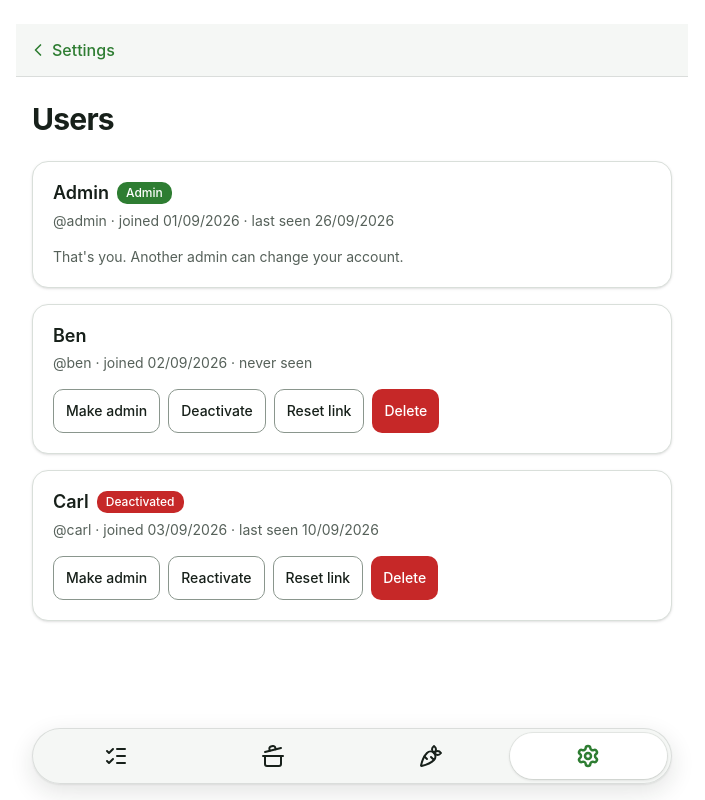
Test: Admin pages › /me/admin/users is a detail screen: the strip back to Settings, then the title, no chips (D-45, D-46)
Expected: the navigation bar "Administration" is not shown
Expected: the link "Invites" is not shown
Click the link "Settings" at (71, 50), box x1=28 y1=40 x2=115 y2=60
(page scrolled)
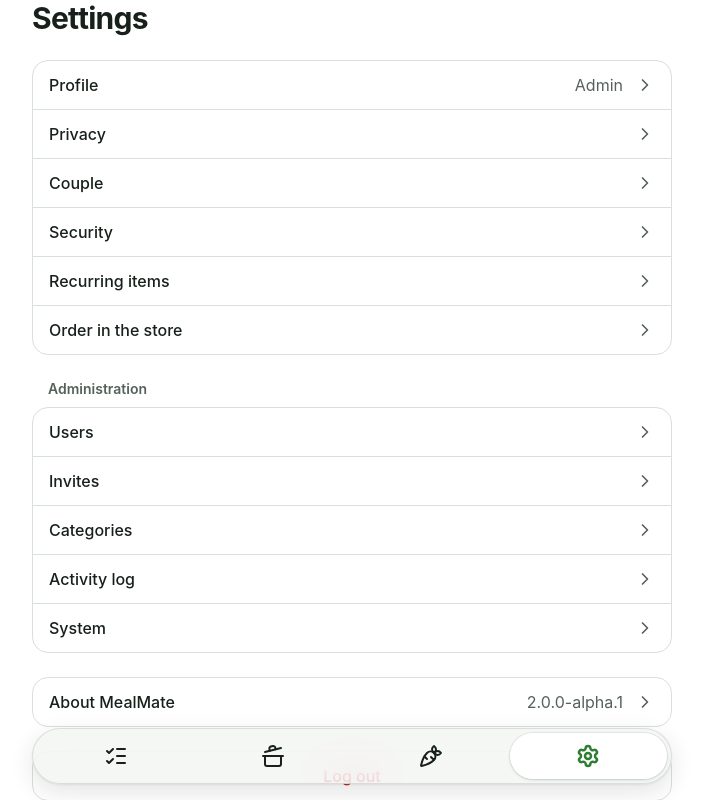
Now the element with test id "screen-me" is shown
